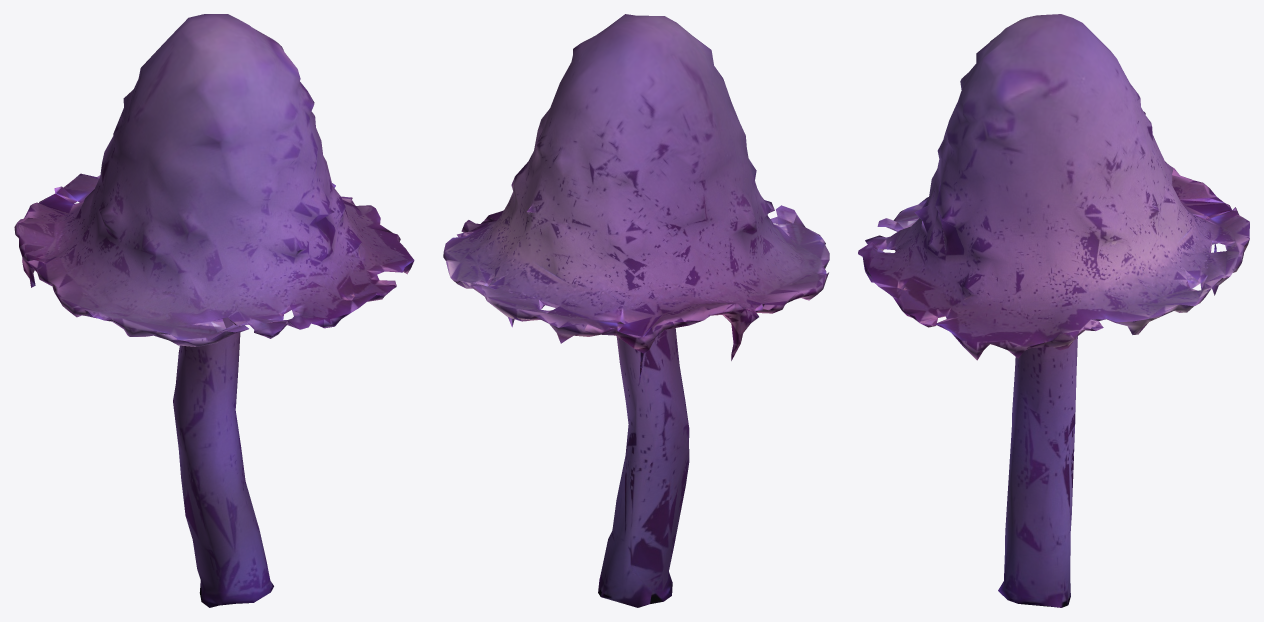
File: cave_mushroom_02.glb
The picture shows the model from 3 angles, left to right: view 1: azimuth 30°, elevation 25°; view 2: azimuth 150°, elevation 25°; view 3: azimuth 270°, elevation 25°; orthographic projection.
Visible parts, largest first — view 1: 60; view 2: 60; view 3: 60.
Part boxes in pixels (box(x1,y1,x2,y2)): 60: box(14, 14, 414, 607); 60: box(443, 14, 829, 607); 60: box(858, 14, 1249, 607).
Size of the model in its own units: 0.1636 by 0.2713 by 0.1683.
Materials: 1 (1 with a texture image).
